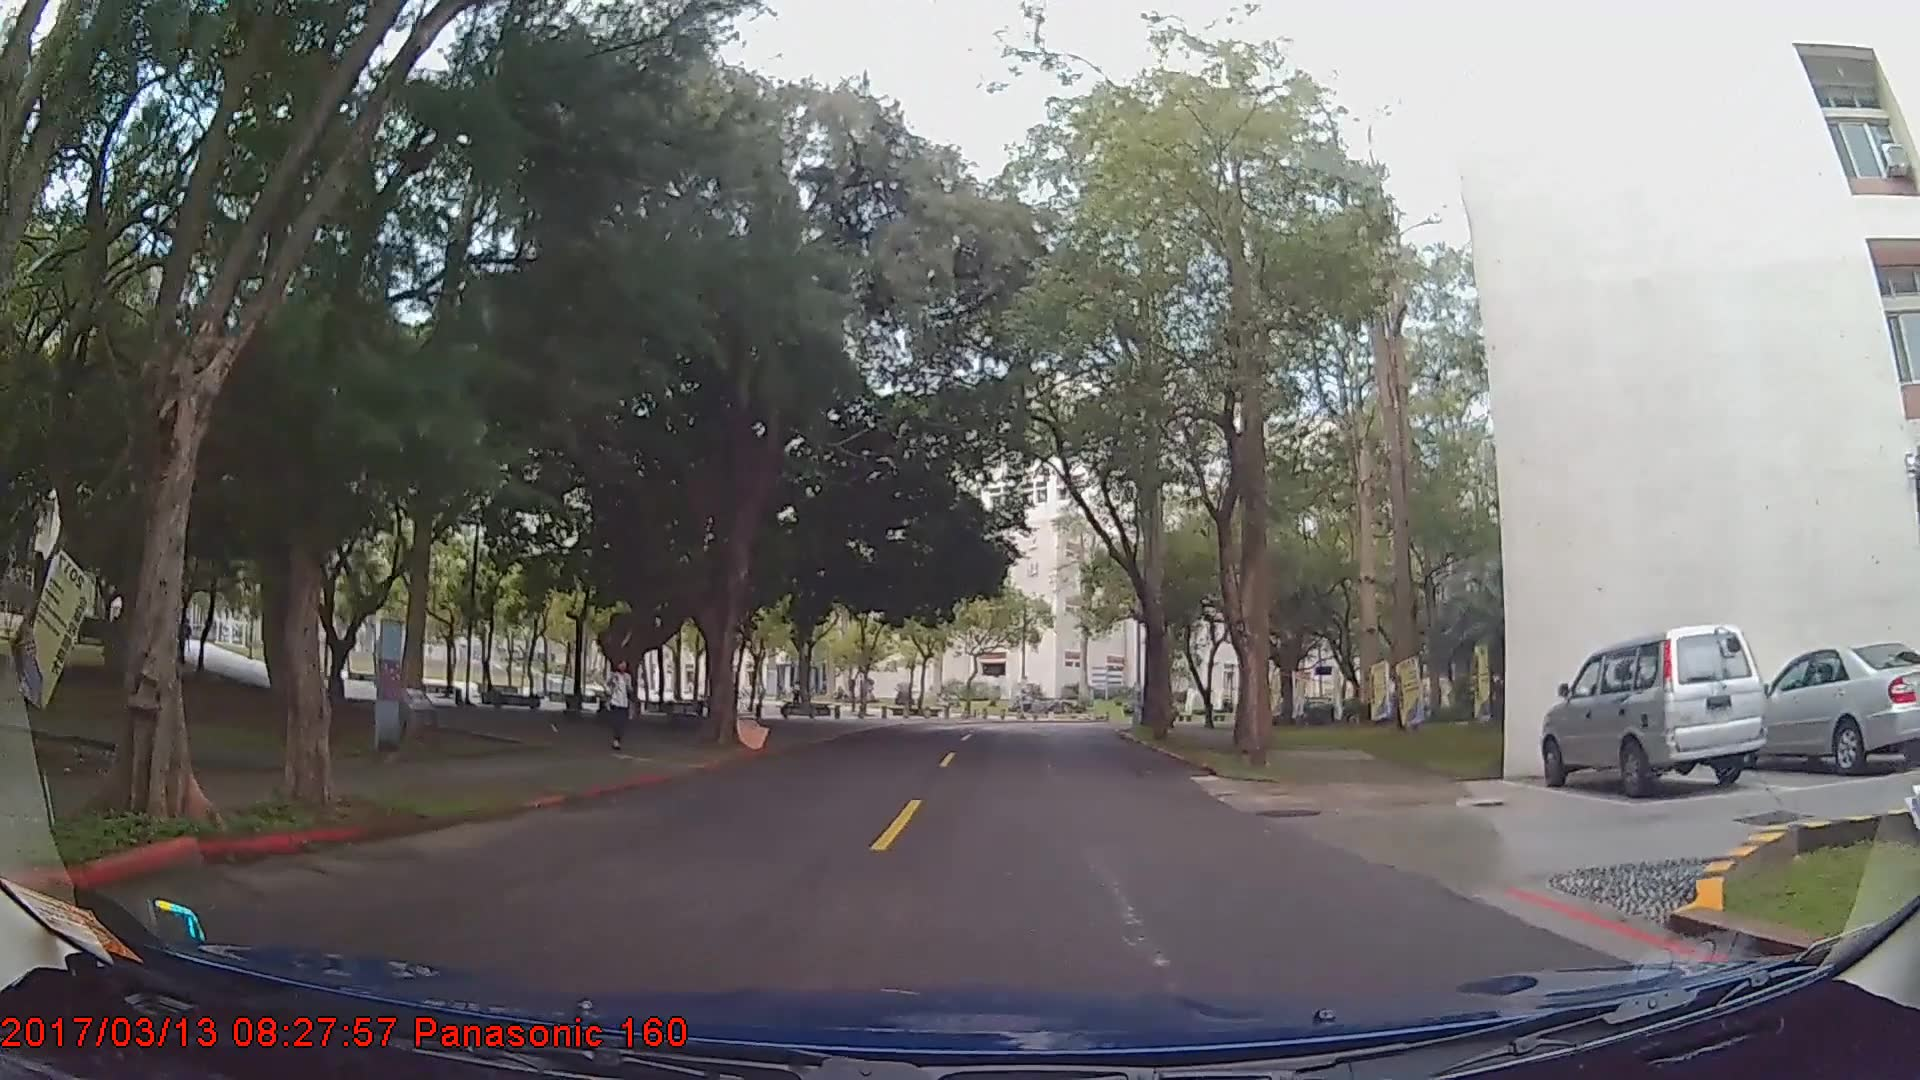pedestrian: (602, 655, 638, 750)
vehicle: (1539, 622, 1766, 798), (1728, 633, 1920, 769)
